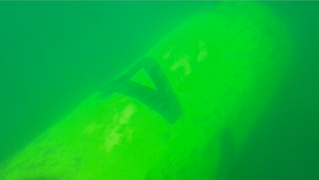4: (95, 58, 184, 125), (215, 126, 236, 180)
pipe: (1, 1, 296, 180)
